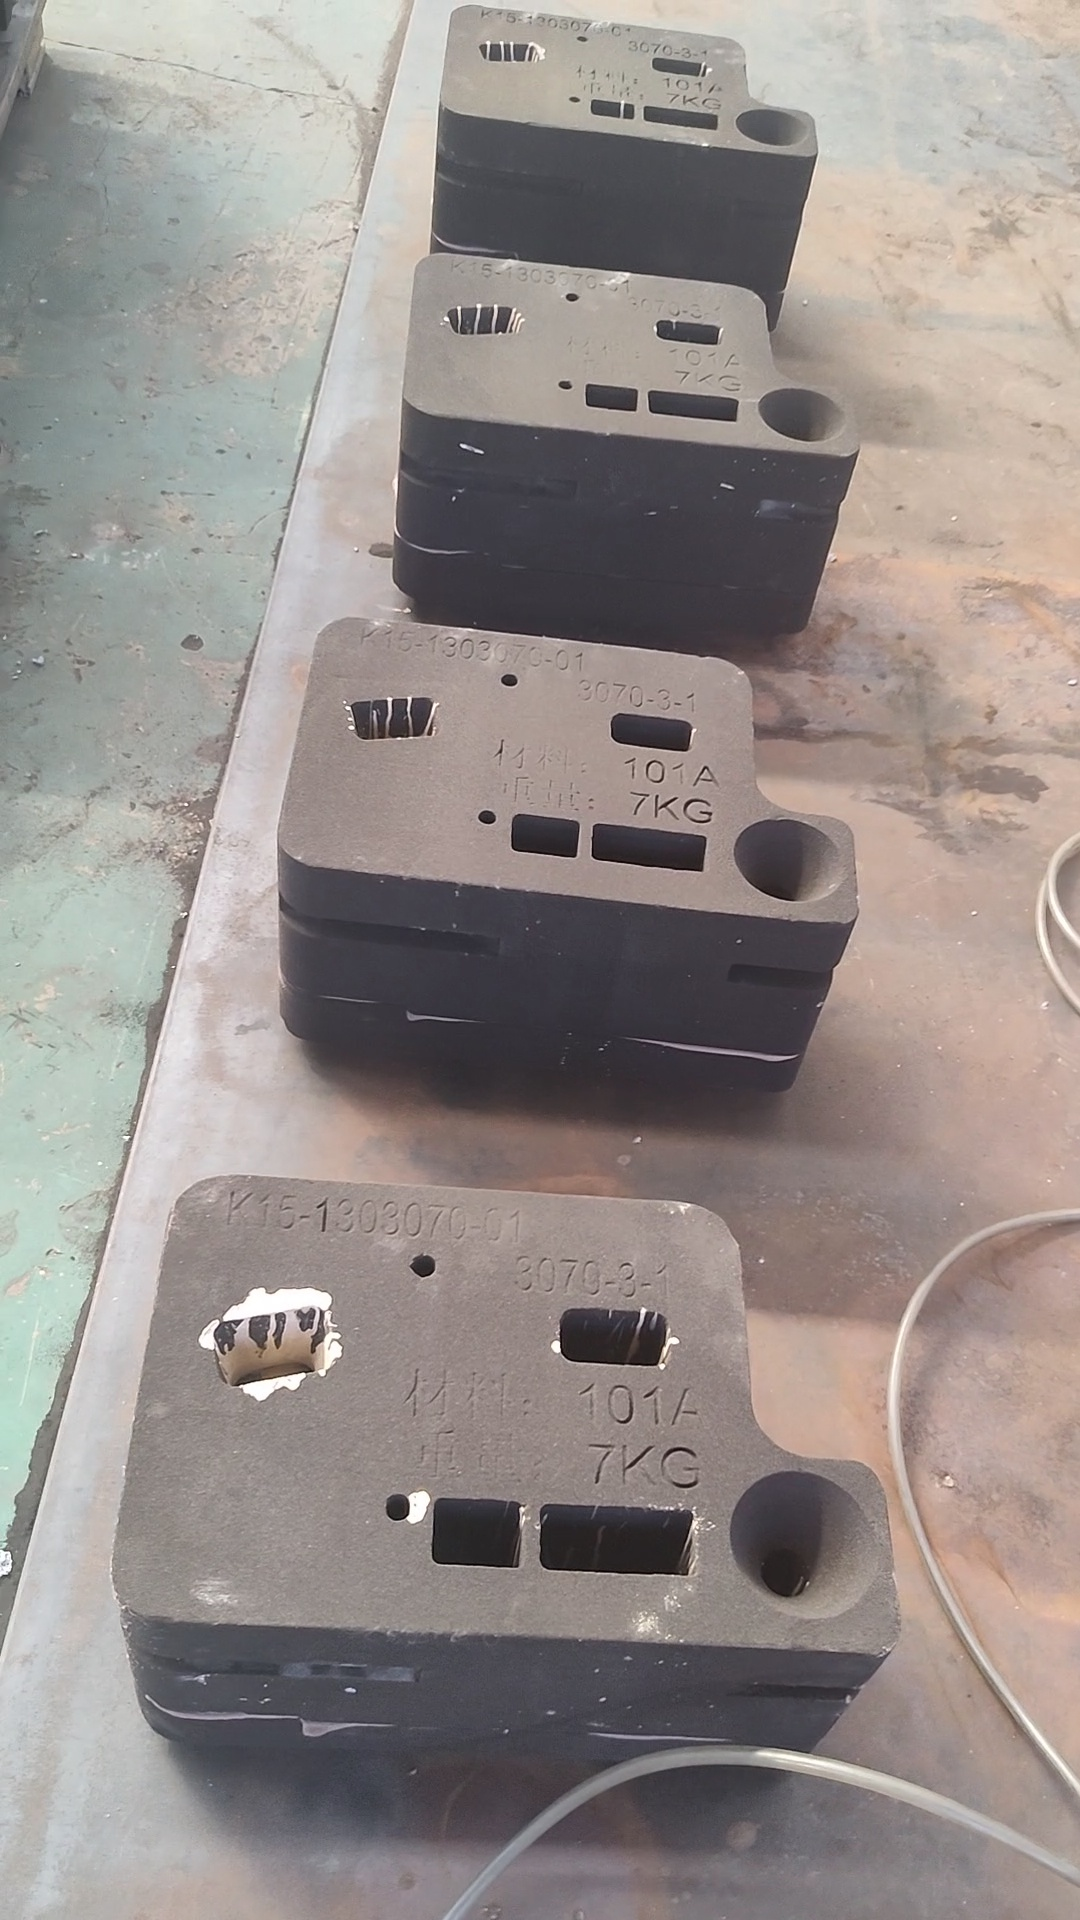pouring hole: (727, 1469, 880, 1621), (735, 818, 845, 903), (760, 386, 849, 444), (735, 107, 812, 148)
